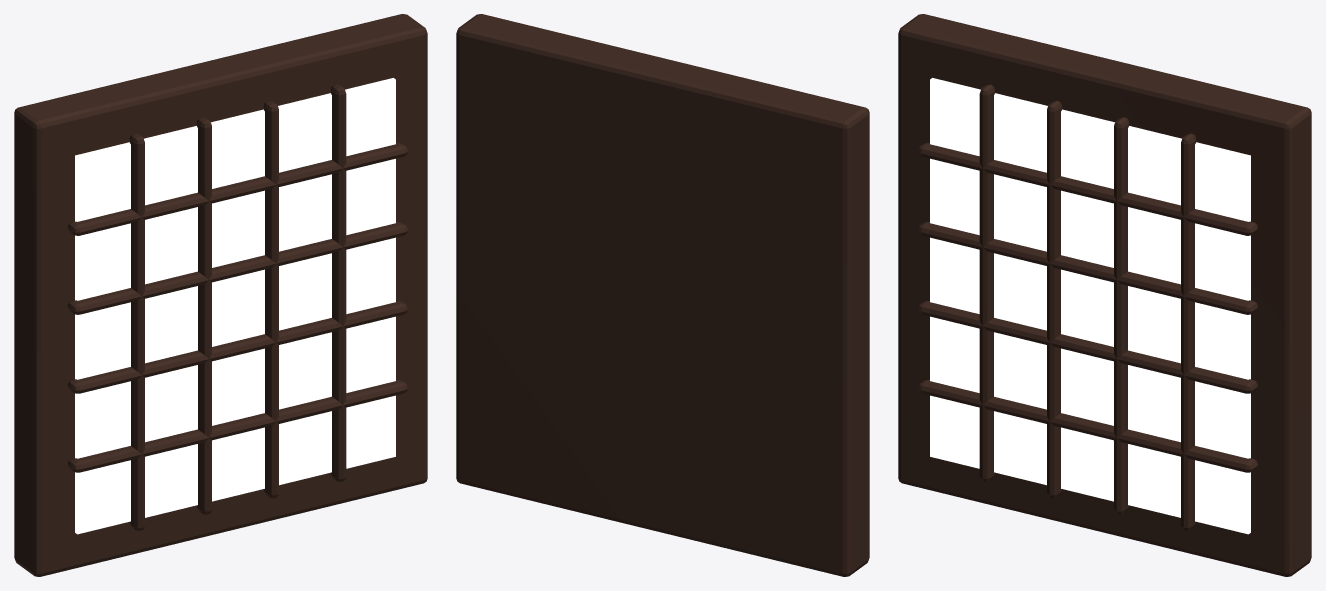
The model's file is window_lattice.glb.
3 renders of one model, left to right at view 1: azimuth 30°, elevation 25°; view 2: azimuth 150°, elevation 25°; view 3: azimuth 330°, elevation 25°, orthographic.
Parts seen in each view (by area): view 1: Frame, Glow; view 2: Frame; view 3: Frame, Glow.
Boxes of the visible parts, x1,y1,x2,y2 form: Frame: [14, 14, 427, 576]; Glow: [75, 78, 395, 534]; Frame: [456, 14, 869, 576]; Frame: [898, 14, 1311, 576]; Glow: [930, 78, 1250, 534].
Bounding box in the file's own units: 0.94 × 1.04 × 0.14.
